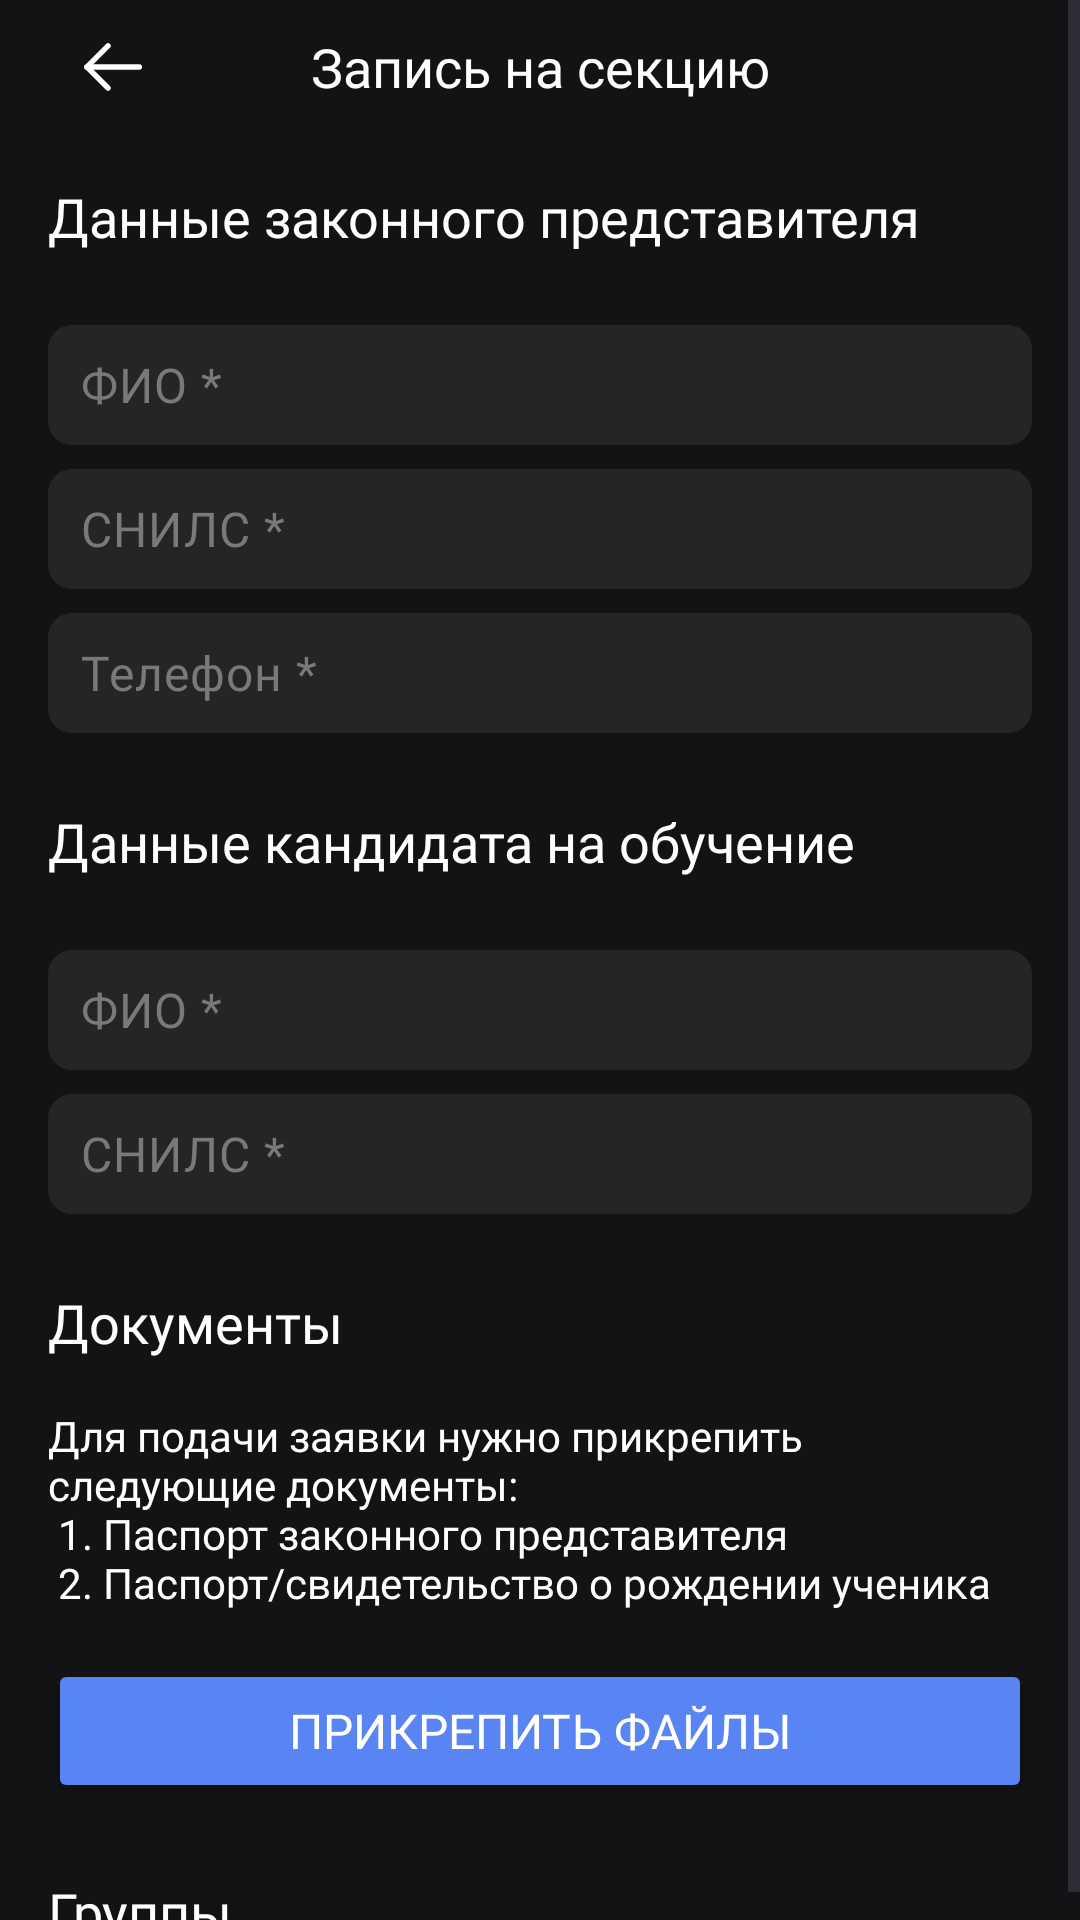

Named icons in this screenshot (1080 x 1920) and their bounding boxes, (x1, y1, x2, y2):
back: (84, 43, 142, 91)
